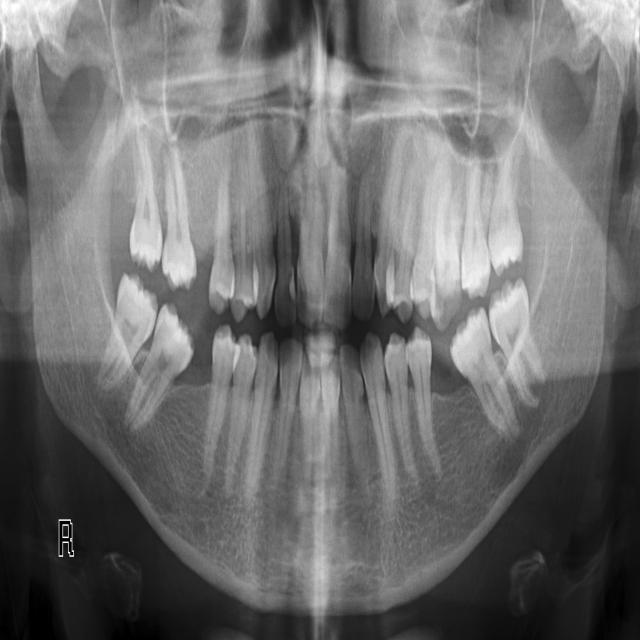tooth: (127, 304, 191, 427), (451, 310, 515, 430), (489, 280, 541, 405), (361, 336, 396, 501), (387, 140, 419, 307), (373, 143, 404, 315), (162, 143, 195, 288), (108, 271, 157, 368), (248, 337, 278, 492), (296, 168, 326, 318), (130, 131, 163, 266), (325, 162, 351, 329), (434, 171, 461, 328), (339, 345, 369, 486), (410, 172, 438, 319), (207, 329, 234, 469), (489, 156, 521, 270), (352, 163, 375, 319), (461, 168, 489, 295), (229, 335, 255, 468), (407, 330, 434, 457), (232, 191, 256, 318), (209, 186, 233, 311), (274, 191, 296, 326), (281, 339, 301, 463), (321, 347, 339, 460), (255, 237, 276, 319), (275, 278, 295, 326)
